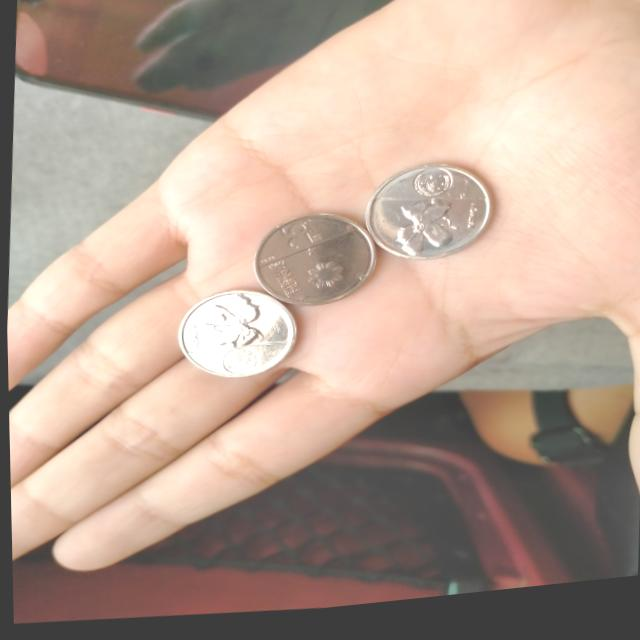25Cent_New_Back: (386, 198, 458, 273)
25Cent_New_Front: (267, 215, 329, 266)
